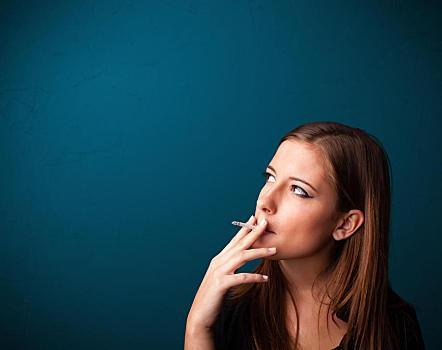Cigarette: (184, 131, 402, 350), (234, 220, 254, 228)
